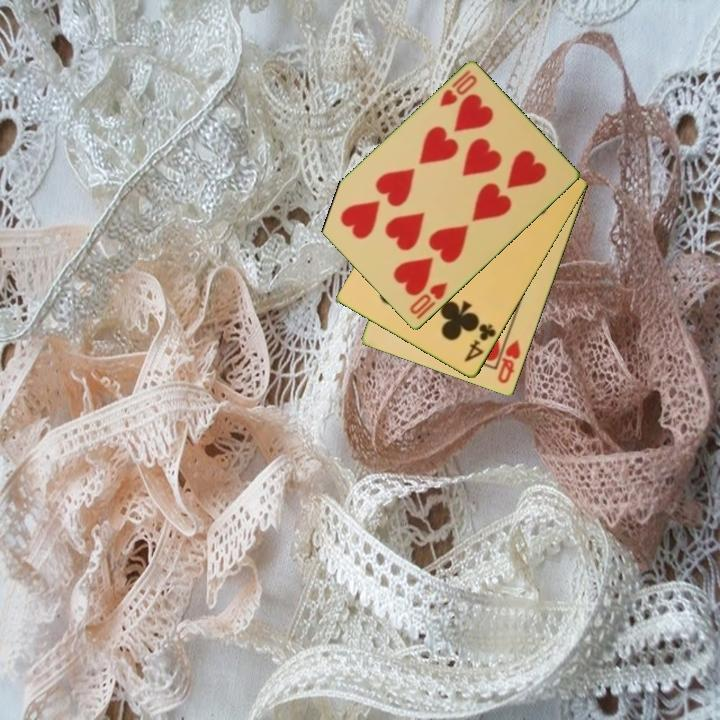10h: (406, 279, 451, 323), (436, 67, 480, 110)
4c: (461, 320, 499, 365)
Qh: (494, 336, 524, 387)
